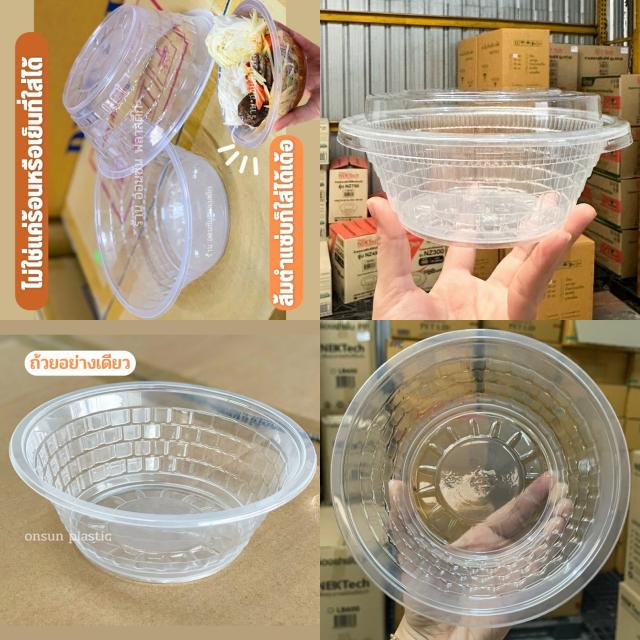Single-Use-Plastic: (331, 329, 630, 628), (10, 381, 316, 582), (338, 90, 632, 248), (62, 5, 214, 178), (94, 145, 229, 318)
